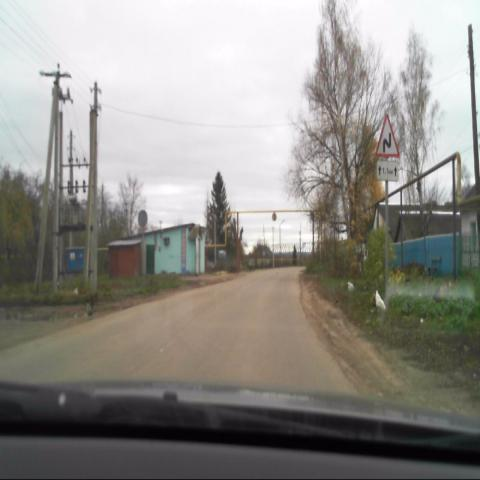1_12: (376, 114, 398, 155)
